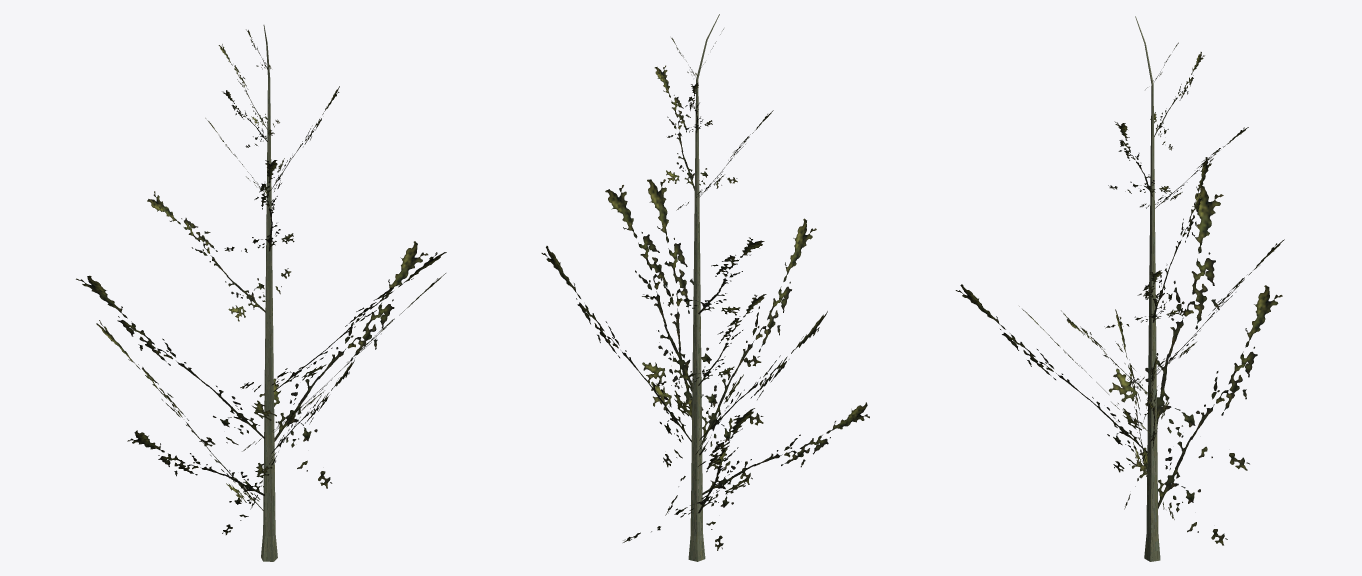
Rendered from cedar2_hi.obj.
3 renders of one model, left to right at view 1: azimuth 30°, elevation 25°; view 2: azimuth 150°, elevation 25°; view 3: azimuth 270°, elevation 25°, orthographic.
Visible parts, largest first — view 1: Cedar2_hi; view 2: Cedar2_hi; view 3: Cedar2_hi.
Part boxes in pixels (<box>): Cedar2_hi: <box>76,25,446,561</box>; Cedar2_hi: <box>541,14,869,561</box>; Cedar2_hi: <box>955,16,1284,561</box>.
Size of the model in its own units: 5.6 by 7.46 by 5.39.
Materials: 2 (2 with a texture image).
